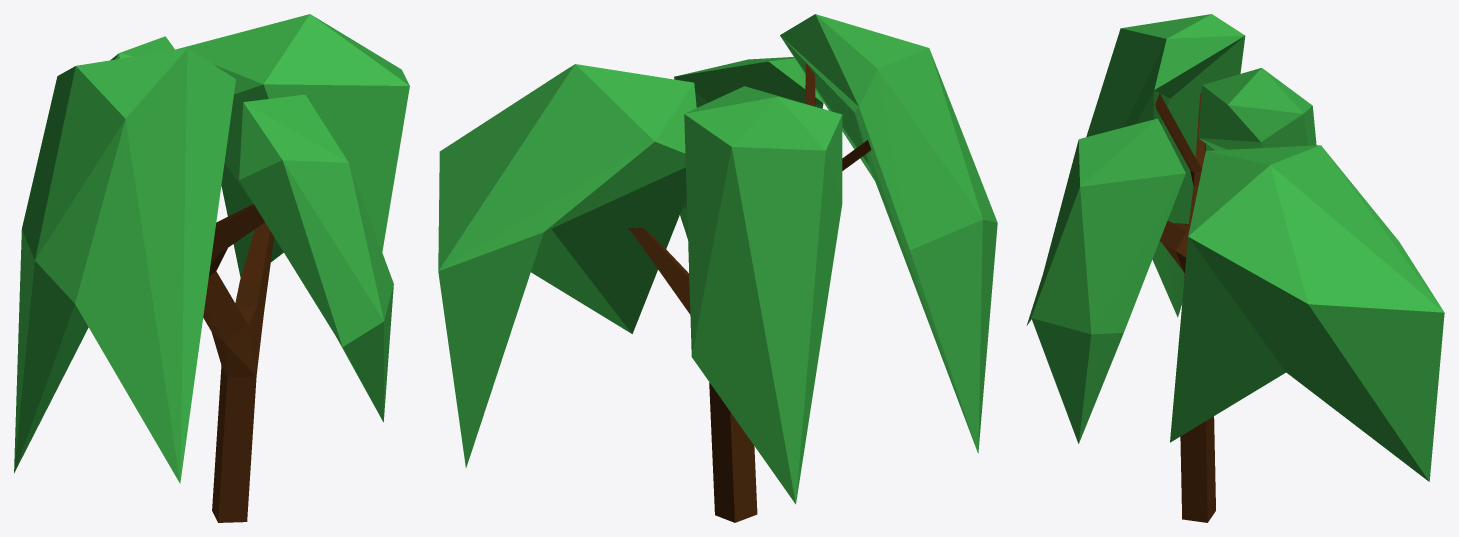
File: tree 3.glb
3 renders of one model, left to right at view 1: azimuth 30°, elevation 25°; view 2: azimuth 150°, elevation 25°; view 3: azimuth 270°, elevation 25°, orthographic. The views are drawn at different scales.
Parts seen in each view (by area): view 1: Icosphere, Icosphere.002, Icosphere.001, Plane, Icosphere.003; view 2: Icosphere.001, Icosphere.003, Icosphere, Plane, Icosphere.002; view 3: Icosphere.001, Icosphere.002, Icosphere, Icosphere.003, Plane.
Boxes of the visible parts, x1,y1,x2,y2 form: Icosphere: [14, 48, 235, 483]; Icosphere.002: [239, 94, 393, 422]; Icosphere.001: [175, 14, 409, 277]; Plane: [203, 204, 274, 522]; Icosphere.003: [110, 36, 174, 60]; Icosphere.001: [438, 64, 696, 467]; Icosphere.003: [684, 86, 842, 504]; Icosphere: [780, 14, 997, 453]; Plane: [628, 62, 871, 522]; Icosphere.002: [674, 57, 823, 238]; Icosphere.001: [1170, 145, 1444, 481]; Icosphere.002: [1031, 118, 1185, 443]; Icosphere: [1026, 14, 1245, 325]; Icosphere.003: [1198, 68, 1316, 150]; Plane: [1155, 92, 1215, 522].
Size of the model in its own units: 8.94 by 9.23 by 7.77.
